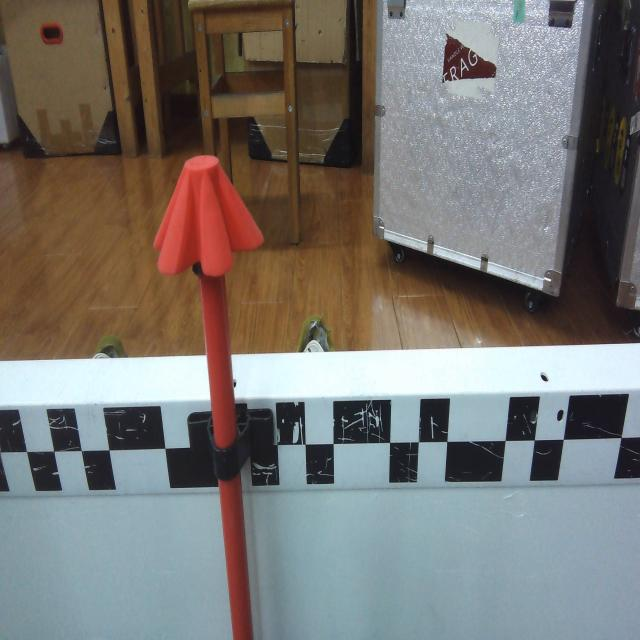zred-Stake-Head: (153, 154, 264, 276)
